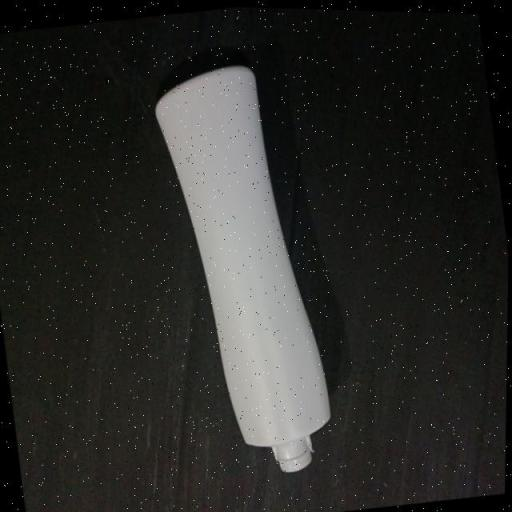plastic: (116, 31, 375, 495)
